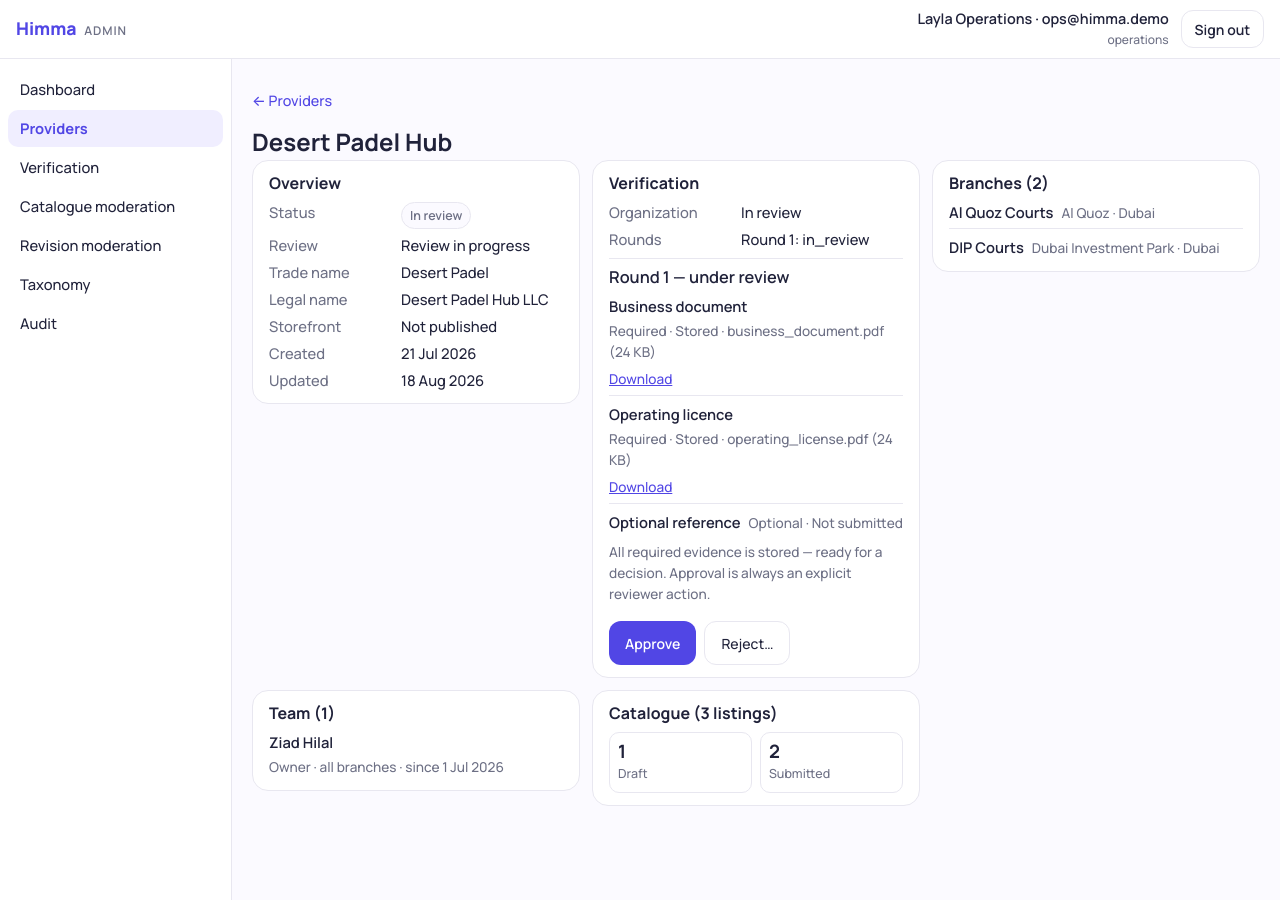
Scenario: the review journey (fixture composition — content safety ready) › a ready under-review case is APPROVED explicitly; the organization becomes verified, then goes live
Expected: the heading "Desert Padel Hub" is shown, [252, 125, 452, 158]
Expected: the heading "Round 1 — under review" is shown, [609, 266, 790, 288]
Click the button "Approve" at (653, 643), box [609, 621, 696, 665]
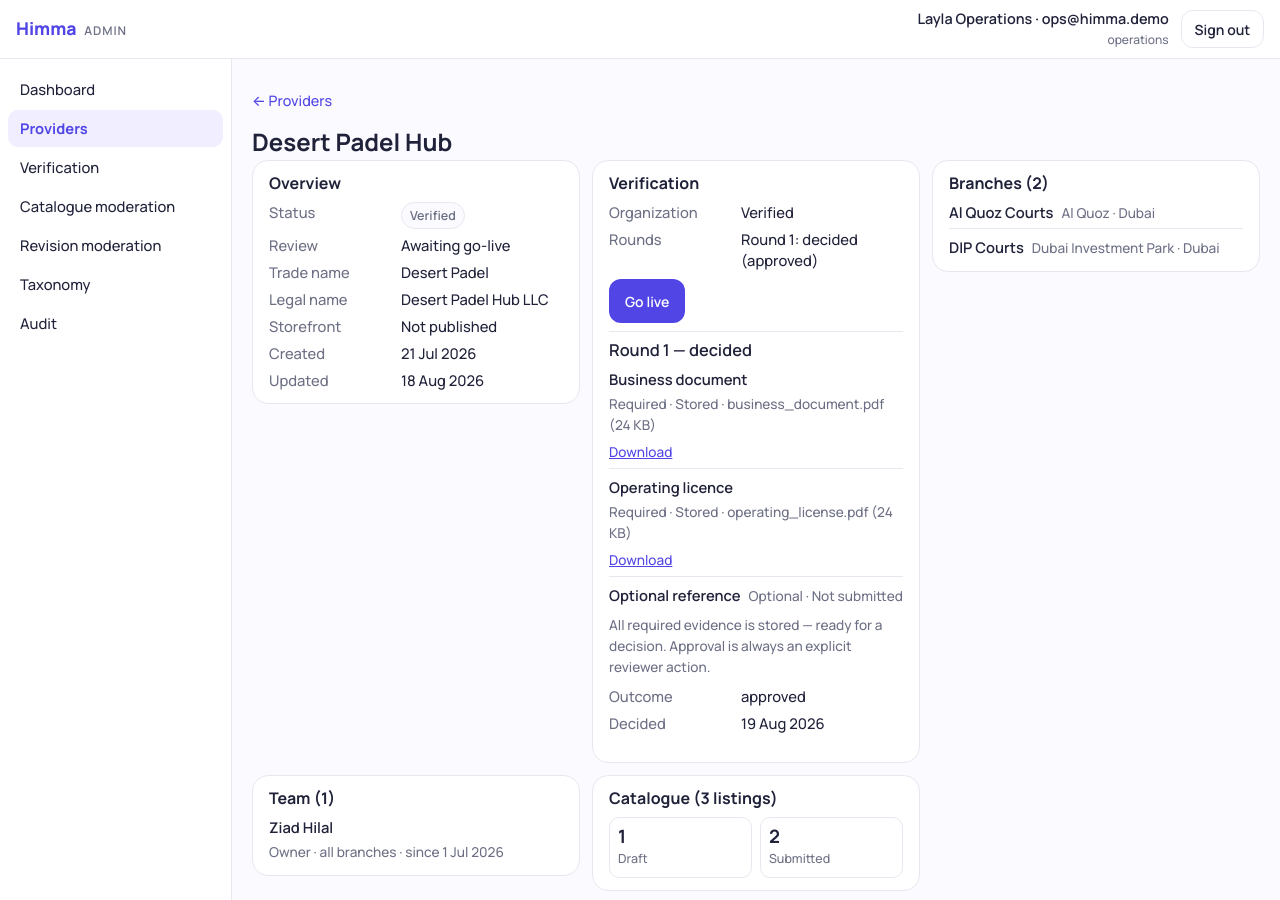
Expected: the text "Verified" next to "Organization" is shown, [741, 202, 794, 222]
Expected: the text "approved" is shown, [741, 686, 806, 706]
Expected: the button "Go live" is shown
Click the button "Go live" at (647, 301), box [609, 279, 686, 323]
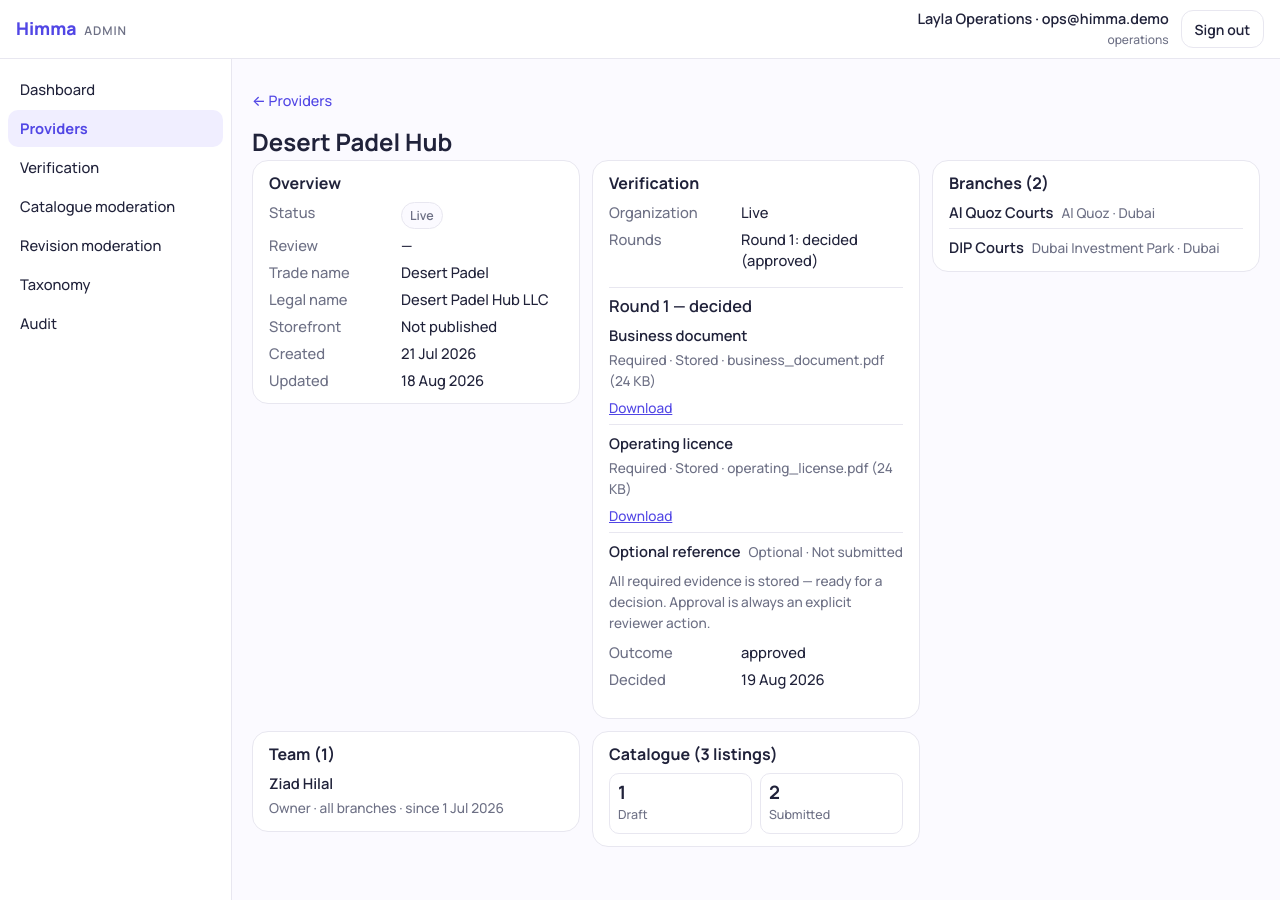
Expected: the text "Live" next to "Organization" is shown, [741, 202, 768, 222]
